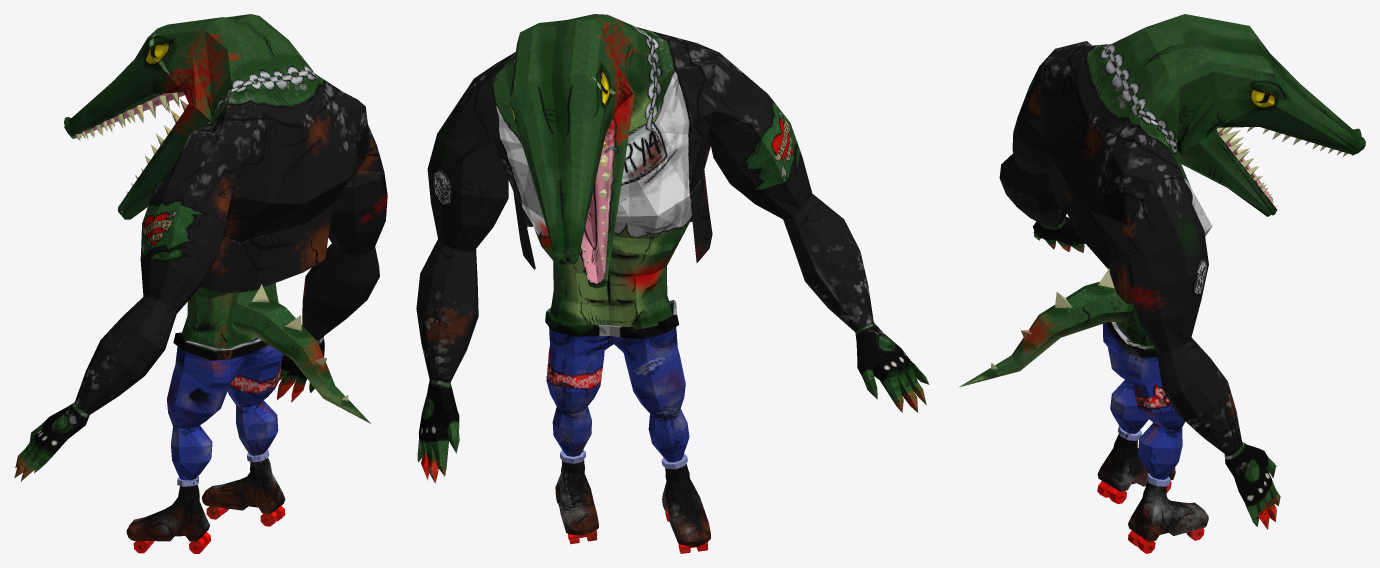
The model's file is cocodrilaBonesSelect_000032.obj.
3 renders of one model, left to right at view 1: azimuth 30°, elevation 25°; view 2: azimuth 150°, elevation 25°; view 3: azimuth 270°, elevation 25°, orthographic. The views are drawn at different scales.
Parts seen in each view (by area): view 1: Crocodile.002_Cylinder.002; view 2: Crocodile.002_Cylinder.002; view 3: Crocodile.002_Cylinder.002.
Boxes of the visible parts, bbox=[...] form: Crocodile.002_Cylinder.002: bbox=[14, 14, 387, 553]; Crocodile.002_Cylinder.002: bbox=[416, 14, 929, 553]; Crocodile.002_Cylinder.002: bbox=[958, 14, 1365, 553].
Size of the model in its own units: 5.8 by 6.58 by 4.69.
